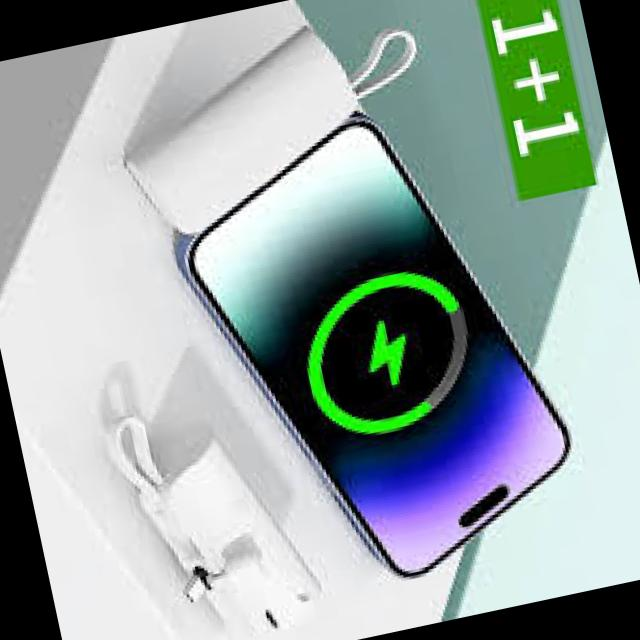portable-charger: (99, 19, 378, 250), (125, 415, 338, 640)
